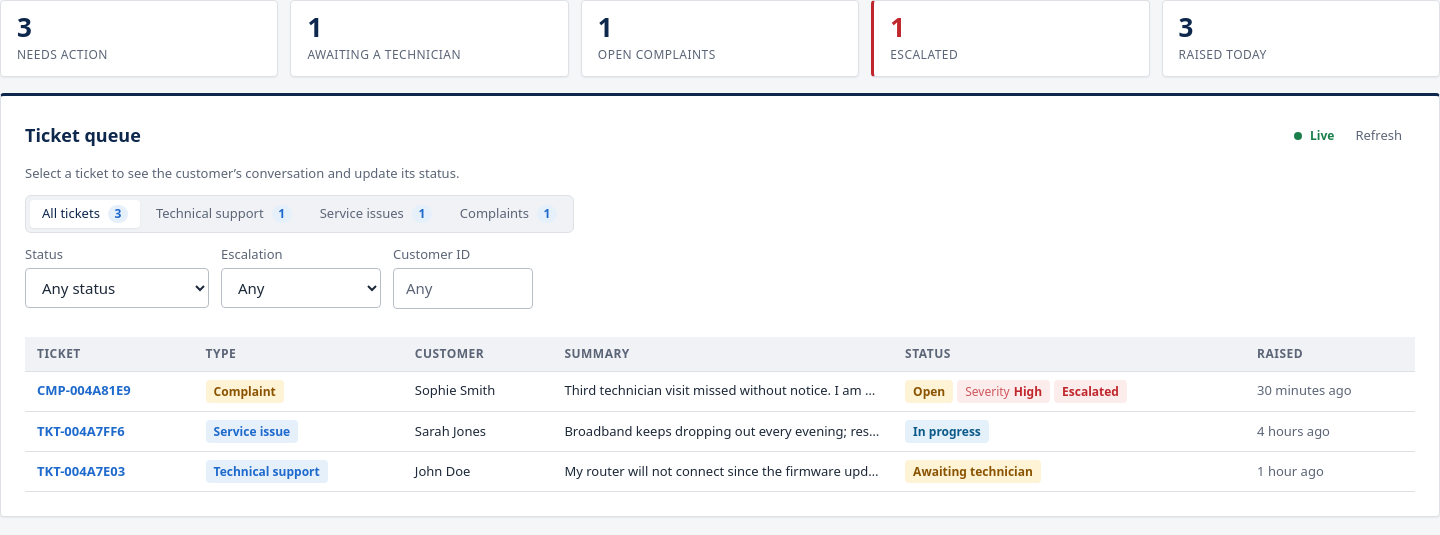
Test: TicketsPanel › narrows to one type, and only then offers the severity filter
Expected: the row named "firmware update" is shown, [25,452,1415,492]
Click the radio button labelled "Complaints 1".
click(508, 214)  # box [448,200,569,228]
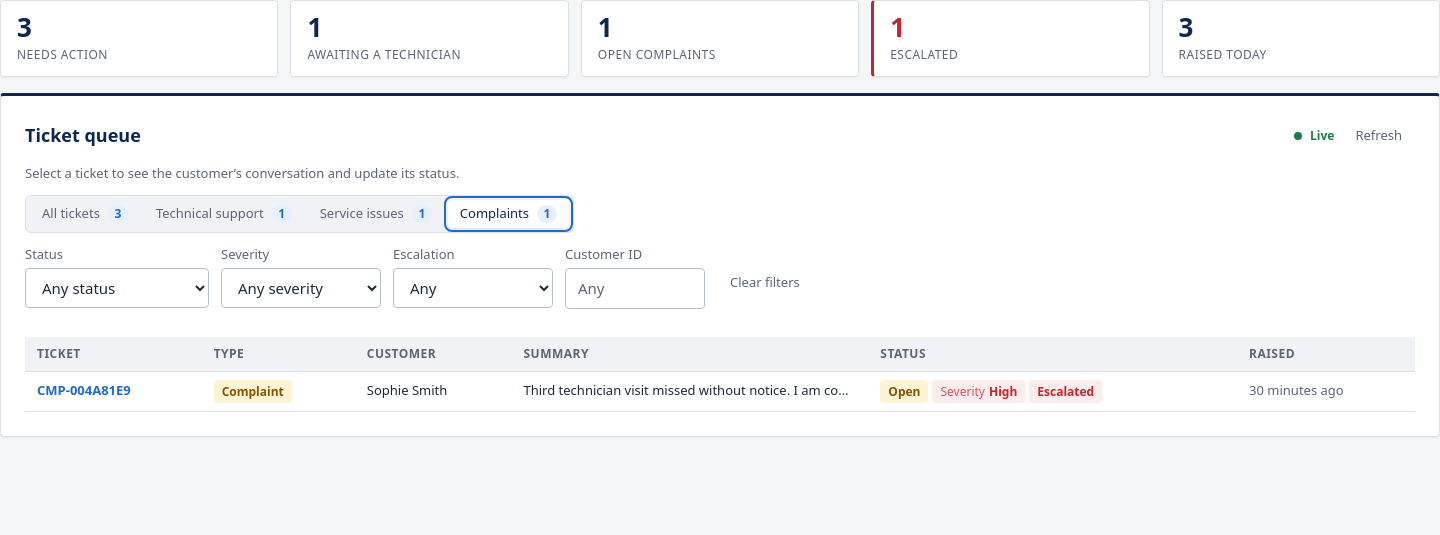
Now the cell "firmware update" is gone
Now the cell "dropping out every evening" is gone
Now the dropdown labelled "Severity" is shown, box [221,268,381,308]
